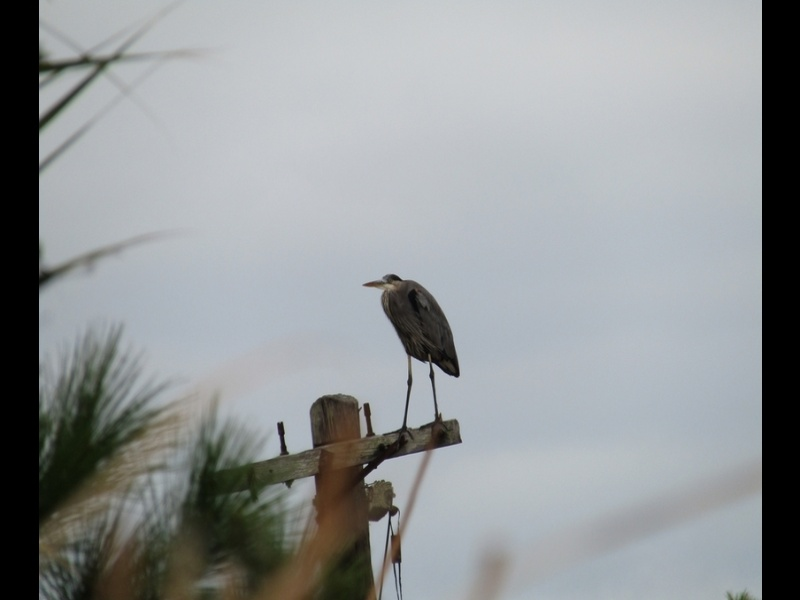heron: (359, 270, 462, 441)
